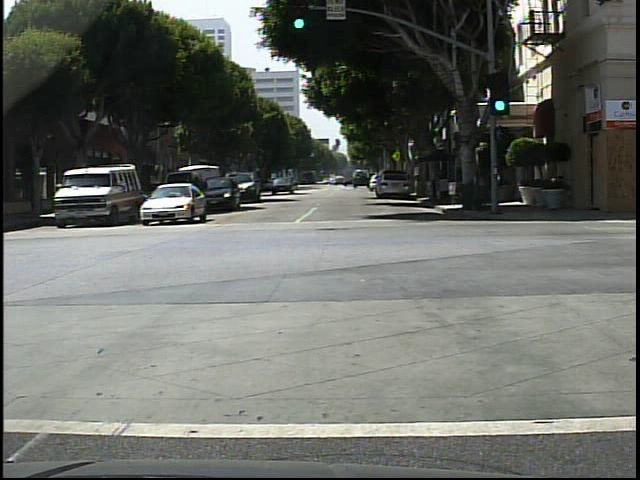person: (427, 162, 441, 202), (474, 161, 486, 205)
